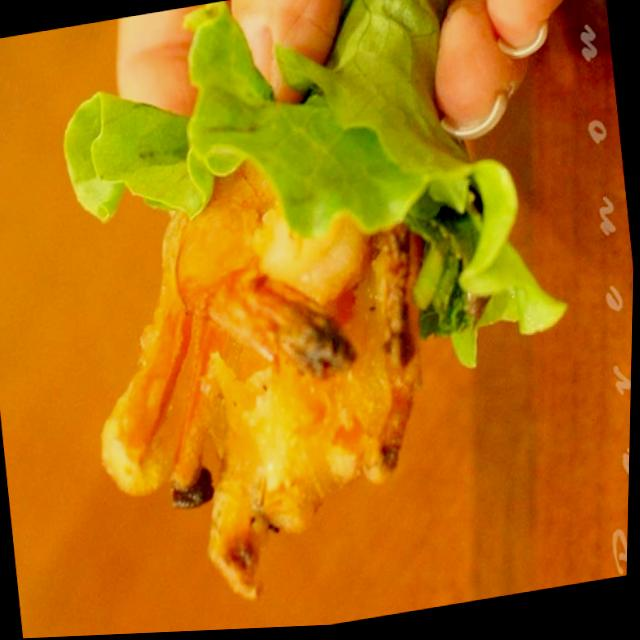炸货点心: (22, 0, 519, 613)
熟制海鲜: (22, 0, 519, 613)
